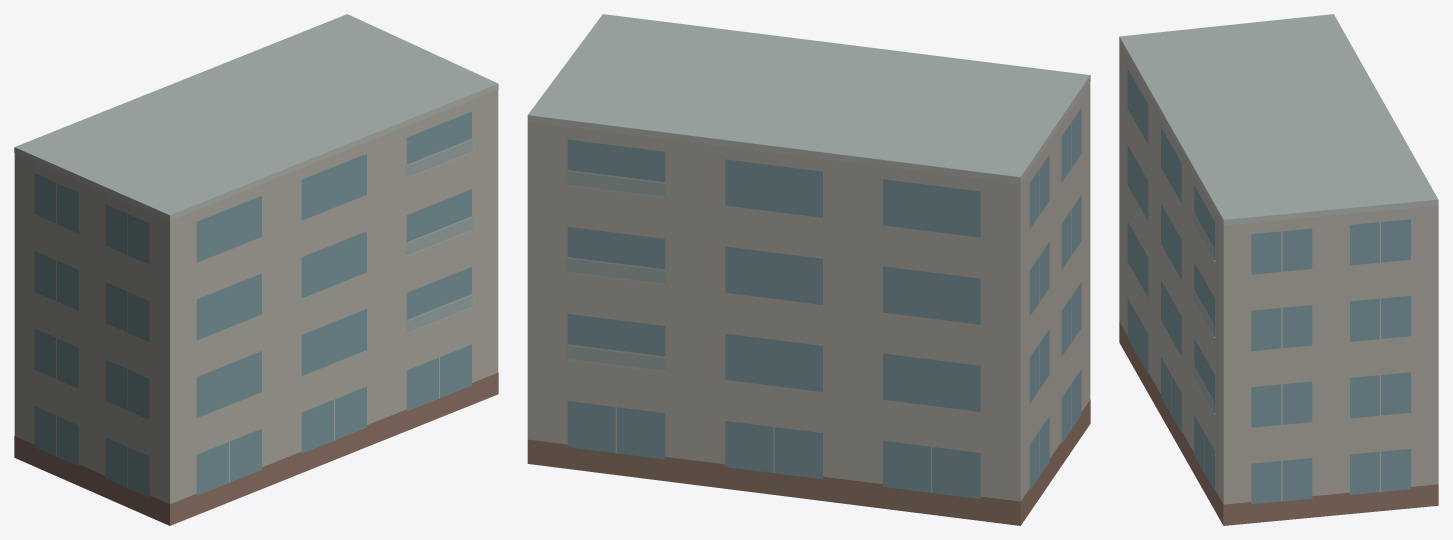
File: survey-upis-32588140.glb
The picture shows the model from 3 angles, left to right: view 1: azimuth 30°, elevation 25°; view 2: azimuth 150°, elevation 25°; view 3: azimuth 270°, elevation 25°; orthographic projection. The views are drawn at different scales.
Parts seen in each view (by area): view 1: survey-upis-32588140.tmp; view 2: survey-upis-32588140.tmp; view 3: survey-upis-32588140.tmp.
Part boxes in pixels (box(x1,y1,x2,y2)): survey-upis-32588140.tmp: box(14, 14, 498, 525); survey-upis-32588140.tmp: box(527, 14, 1090, 525); survey-upis-32588140.tmp: box(1119, 14, 1438, 525).
Size of the model in its own units: 18.69 by 12.95 by 12.25.
